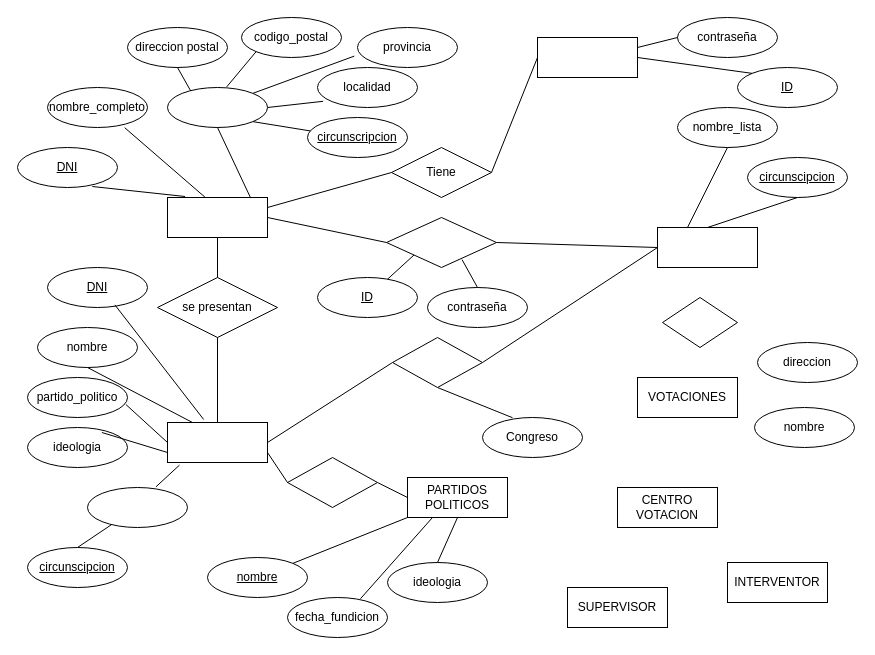
The diagram is 875 pixels wide and 655 high, and some of its shapes have lost their labels. Here are the shapes that lost their labels. From the top down, the centre of each, then its label:
At (x=587, y=57): "IDENTIDAD".
At (x=217, y=107): "direccion_completa".
At (x=217, y=217): "ELECTORES".
At (x=441, y=242): "Votan".
At (x=707, y=247): "LISTAS".
At (x=700, y=322): "Tiene relacion".
At (x=437, y=362): "Forman".
At (x=217, y=442): "POLITICOS".
At (x=332, y=482): "Pertenece".
At (x=137, y=507): "Senado".
